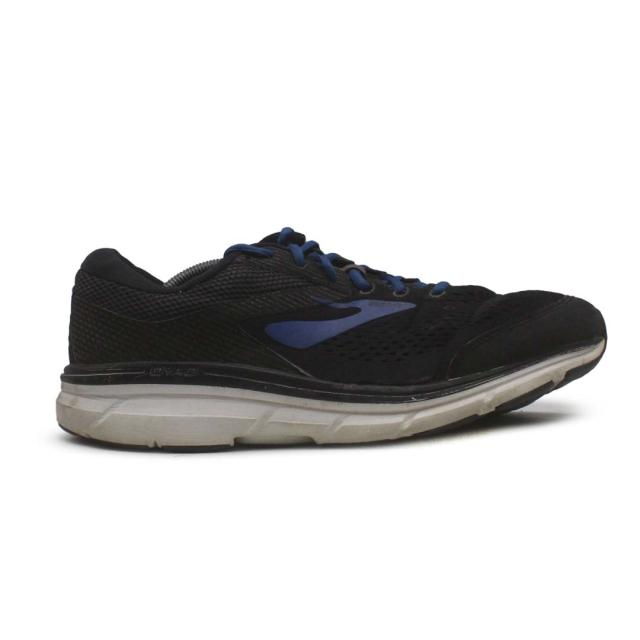heel: (63, 246, 152, 376)
midsole: (56, 340, 607, 450)
uppersole: (151, 230, 607, 385)
